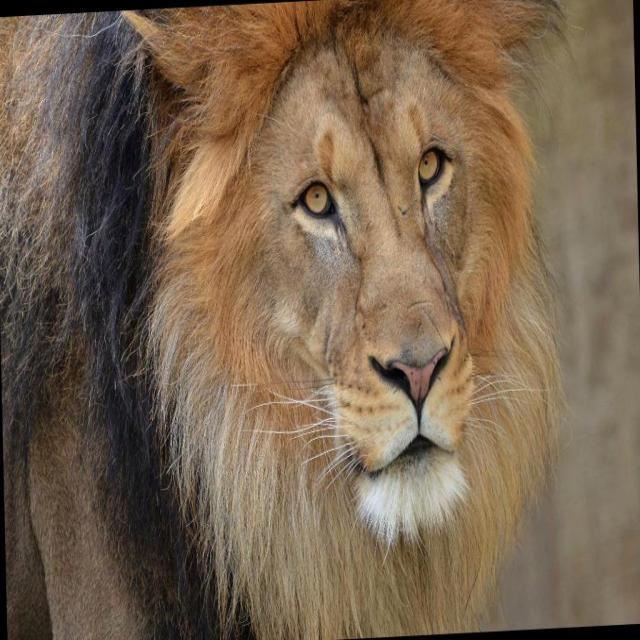Lion: (0, 0, 579, 639)
